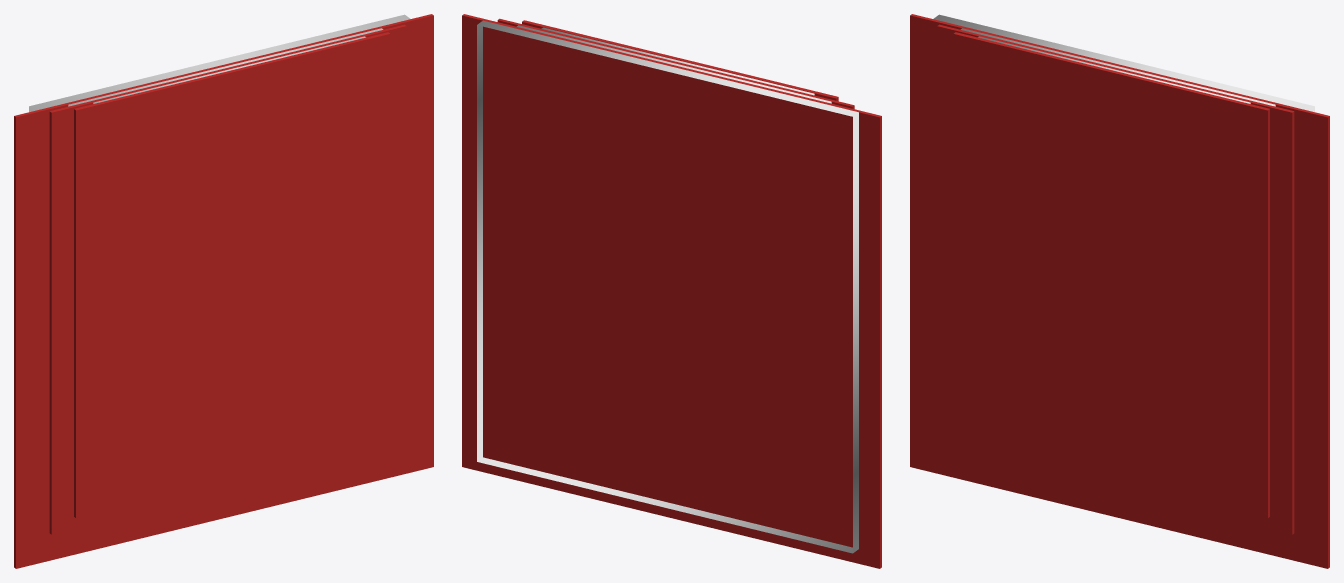
3 renders of one model, left to right at view 1: azimuth 30°, elevation 25°; view 2: azimuth 150°, elevation 25°; view 3: azimuth 330°, elevation 25°, orthographic.
Parts seen in each view (by area): view 1: 前言; view 2: 前言; view 3: 前言.
Boxes of the visible parts, box(x1,y1,x2,y2) form: 前言: box(14, 14, 433, 568); 前言: box(462, 14, 881, 568); 前言: box(910, 14, 1329, 568).
Bounding box in the file's own units: 2.88 × 2.97 × 0.1965.
